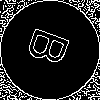B: (25, 25, 80, 72)
